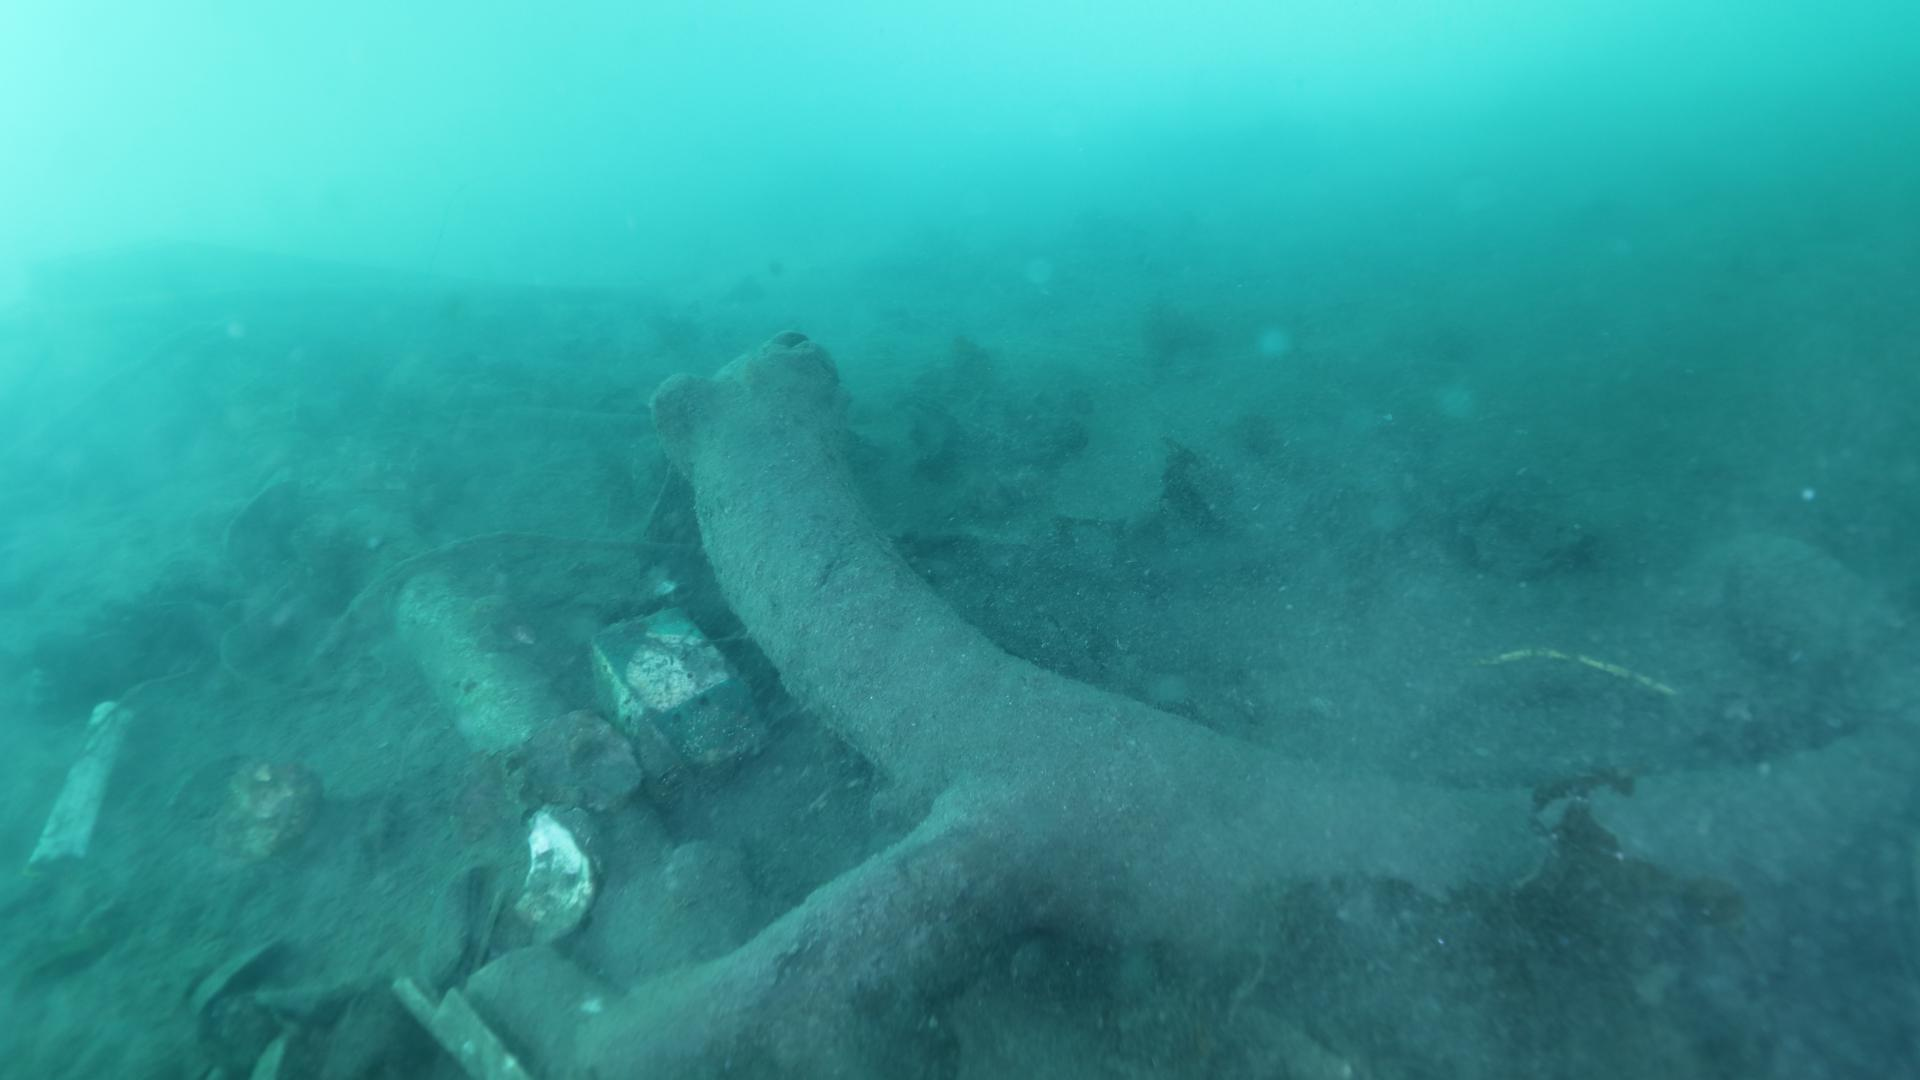wood: (588, 328, 1920, 1080)
